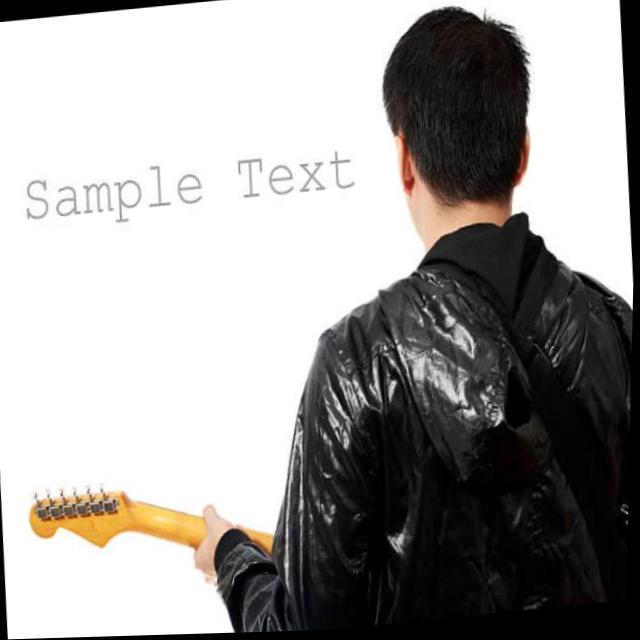no helmet: (376, 0, 544, 255)
